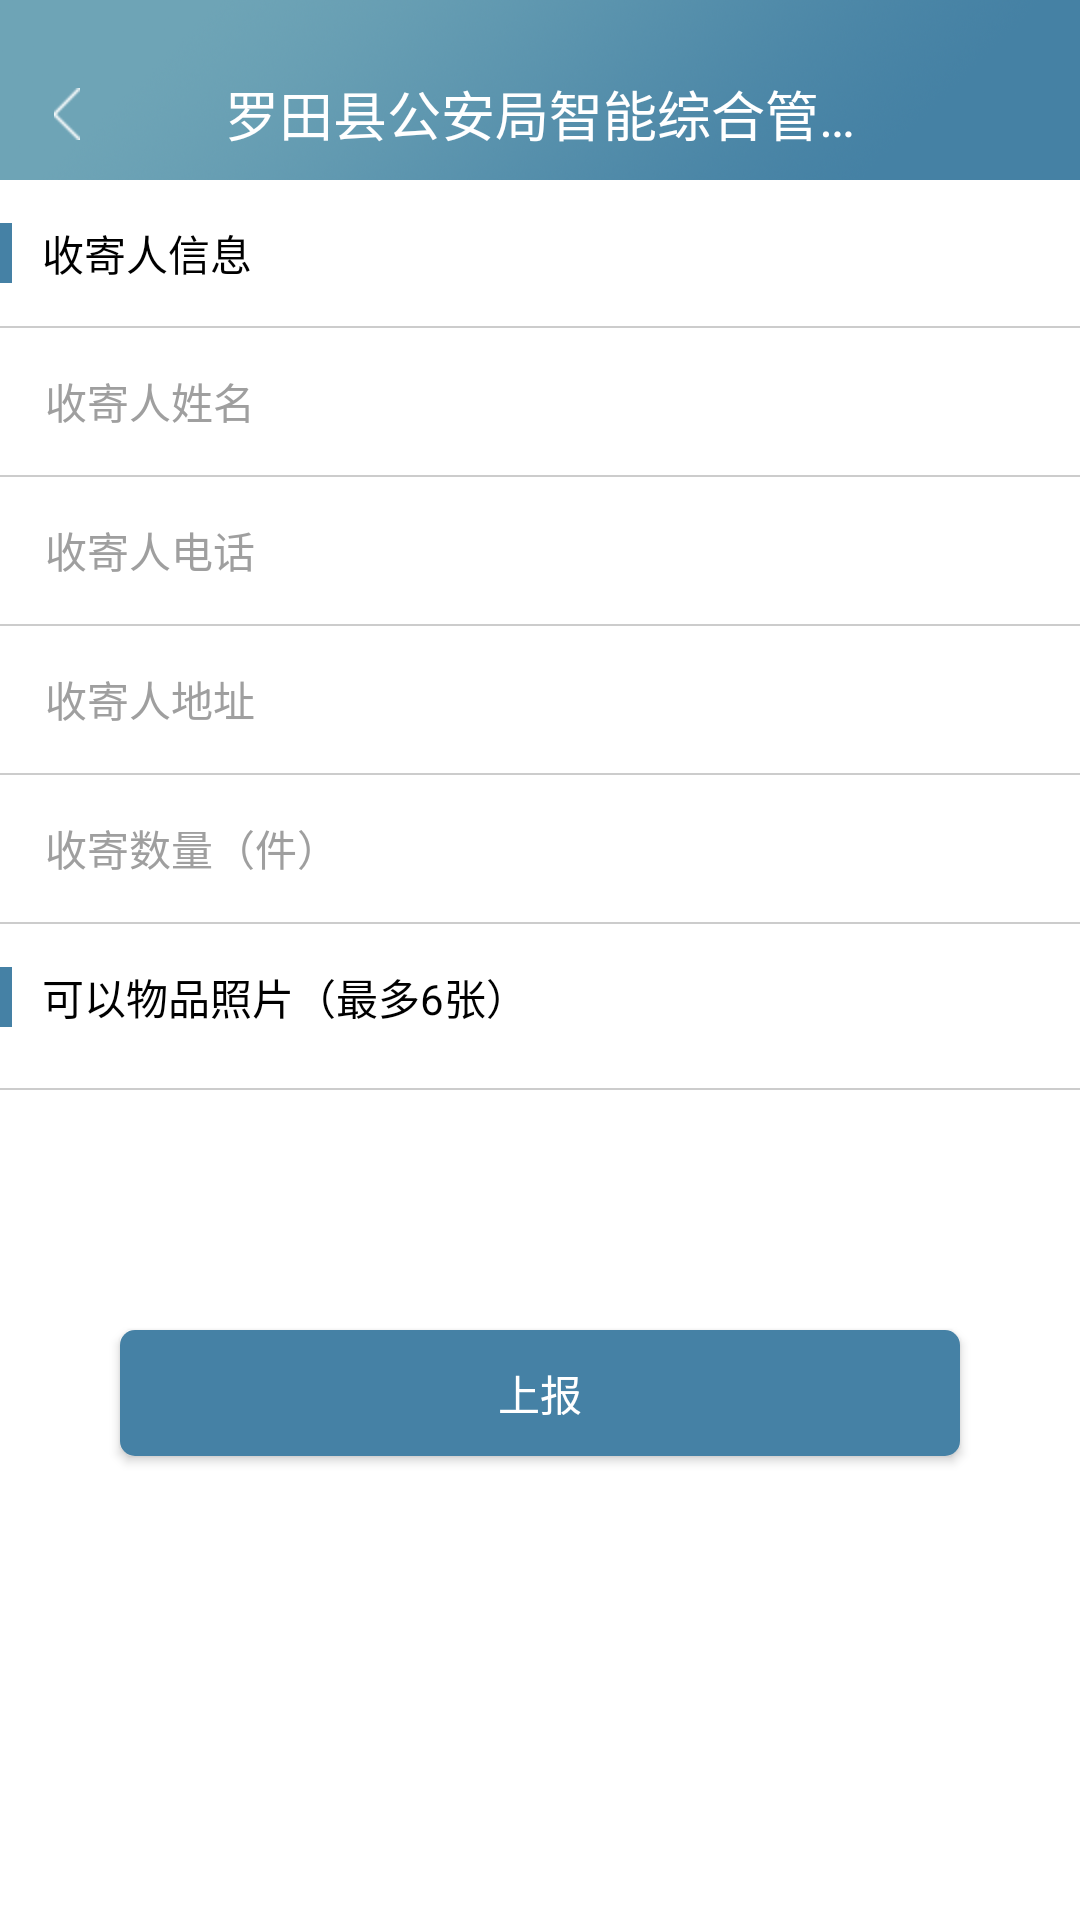

Where to tap for icons on this 1080×1920 app screen, as (x,y):
back: (67,114)
